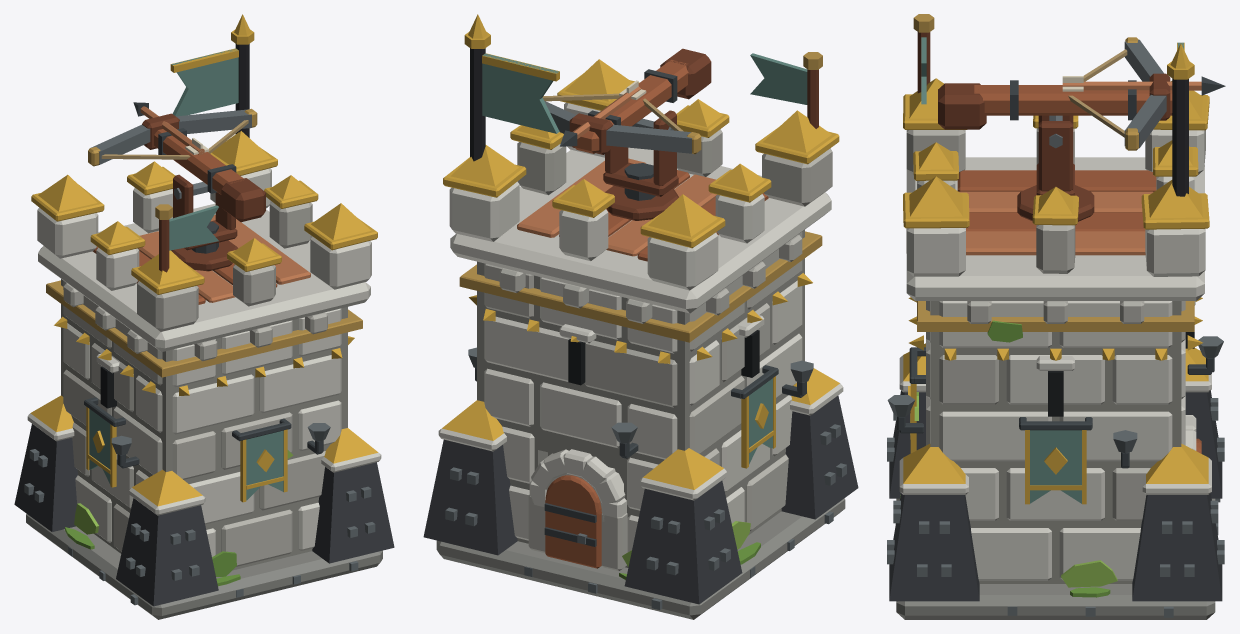
The model's file is sentry.glb.
3 views of the same model, side by side, from view 1: azimuth 30°, elevation 25°; view 2: azimuth 150°, elevation 25°; view 3: azimuth 270°, elevation 25° (orthographic). The views are drawn at different scales.
Parts seen in each view (by area): view 1: BWAR_G_sentry__Cornice, BWAR_G_sentry__WallShell, BWAR_G_sentry__Plinth, BWAR_G_sentry__Footm1m1, BWAR_G_sentry__Foot1m1, BWAR_G_sentry__Footm11, BWAR_G_sentry__TrimBand, BWAR_G_sentry__Wall3_3_0, BWAR_G_sentry__Wall3_3_1, BWAR_G_sentry__Wall3_0_1, BWAR_G_sentry__StandardFlag, BWAR_G_sentry__Merlon5 (+63 smaller); view 2: BWAR_G_sentry__Cornice, BWAR_G_sentry__WallShell, BWAR_G_sentry__Footm11, BWAR_G_sentry__Plinth, BWAR_G_sentry__Foot11, BWAR_G_sentry__Footm1m1, BWAR_G_sentry__TrimBand, BWAR_G_sentry__Wall1_3_1, BWAR_G_sentry__Wall1_3_0, BWAR_G_sentry__StandardFlag, BWAR_G_sentry__DoorDoor, BWAR_G_sentry__Wall1_2_1 (+65 smaller); view 3: BWAR_G_sentry__Cornice, BWAR_G_sentry__WallShell, BWAR_G_sentry__Foot11, BWAR_G_sentry__Foot1m1, BWAR_G_sentry__Plinth, BWAR_G_sentry__Wall0_2_0, BWAR_G_sentry__Wall0_0_0, BWAR_G_sentry__Stock, BWAR_G_sentry__Wall0_2_1, BWAR_G_sentry__Wall0_3_1, BWAR_G_sentry__TrimBand, BWAR_G_sentry__Deck3 (+54 smaller).
Part boxes in pixels (bbox=[...]): BWAR_G_sentry__Cornice: bbox=[38, 203, 370, 351]; BWAR_G_sentry__WallShell: bbox=[61, 279, 347, 570]; BWAR_G_sentry__Plinth: bbox=[26, 514, 382, 619]; BWAR_G_sentry__Footm1m1: bbox=[116, 498, 218, 606]; BWAR_G_sentry__Foot1m1: bbox=[312, 462, 394, 563]; BWAR_G_sentry__Footm11: bbox=[14, 424, 77, 531]; BWAR_G_sentry__TrimBand: bbox=[46, 280, 362, 377]; BWAR_G_sentry__Wall3_3_0: bbox=[172, 374, 254, 434]; BWAR_G_sentry__Wall3_3_1: bbox=[259, 355, 341, 413]; BWAR_G_sentry__Wall3_0_1: bbox=[221, 509, 292, 566]; BWAR_G_sentry__StandardFlag: bbox=[171, 48, 238, 116]; BWAR_G_sentry__Merlon5: bbox=[310, 236, 371, 289]; BWAR_G_sentry__Cornice: bbox=[450, 147, 831, 313]; BWAR_G_sentry__WallShell: bbox=[477, 230, 804, 567]; BWAR_G_sentry__Footm11: bbox=[624, 480, 742, 604]; BWAR_G_sentry__Plinth: bbox=[436, 498, 845, 619]; BWAR_G_sentry__Foot11: bbox=[423, 439, 517, 555]; BWAR_G_sentry__Footm1m1: bbox=[781, 395, 858, 519]; BWAR_G_sentry__TrimBand: bbox=[459, 231, 822, 342]; BWAR_G_sentry__Wall1_3_1: bbox=[584, 340, 677, 407]; BWAR_G_sentry__Wall1_3_0: bbox=[484, 316, 569, 381]; BWAR_G_sentry__StandardFlag: bbox=[482, 53, 559, 133]; BWAR_G_sentry__DoorDoor: bbox=[545, 475, 601, 568]; BWAR_G_sentry__Wall1_2_1: bbox=[540, 382, 621, 448]; BWAR_G_sentry__Cornice: bbox=[906, 157, 1204, 300]; BWAR_G_sentry__WallShell: bbox=[930, 301, 1181, 583]; BWAR_G_sentry__Foot11: bbox=[1132, 493, 1222, 601]; BWAR_G_sentry__Foot1m1: bbox=[889, 493, 979, 601]; BWAR_G_sentry__Plinth: bbox=[896, 498, 1215, 619]; BWAR_G_sentry__Wall0_2_0: bbox=[939, 411, 1051, 461]; BWAR_G_sentry__Wall0_0_0: bbox=[971, 528, 1051, 580]; BWAR_G_sentry__Stock: bbox=[974, 85, 1172, 115]; BWAR_G_sentry__Wall0_2_1: bbox=[1059, 411, 1172, 461]; BWAR_G_sentry__Wall0_3_1: bbox=[1006, 355, 1104, 404]; BWAR_G_sentry__TrimBand: bbox=[917, 301, 1194, 331]; BWAR_G_sentry__Deck3: bbox=[966, 231, 1145, 255].
Bounding box in the file's own units: 0.973 × 1.8 × 0.9765.
